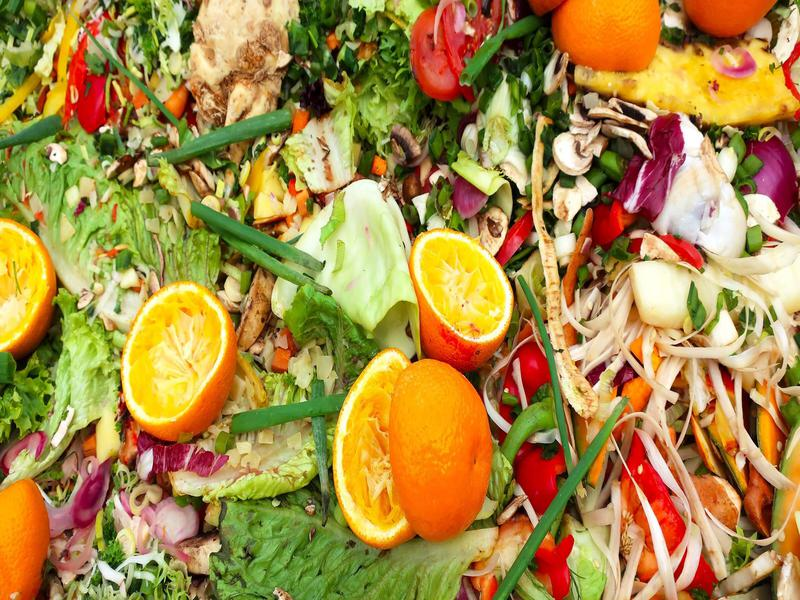vegetation: (3, 1, 800, 600)
